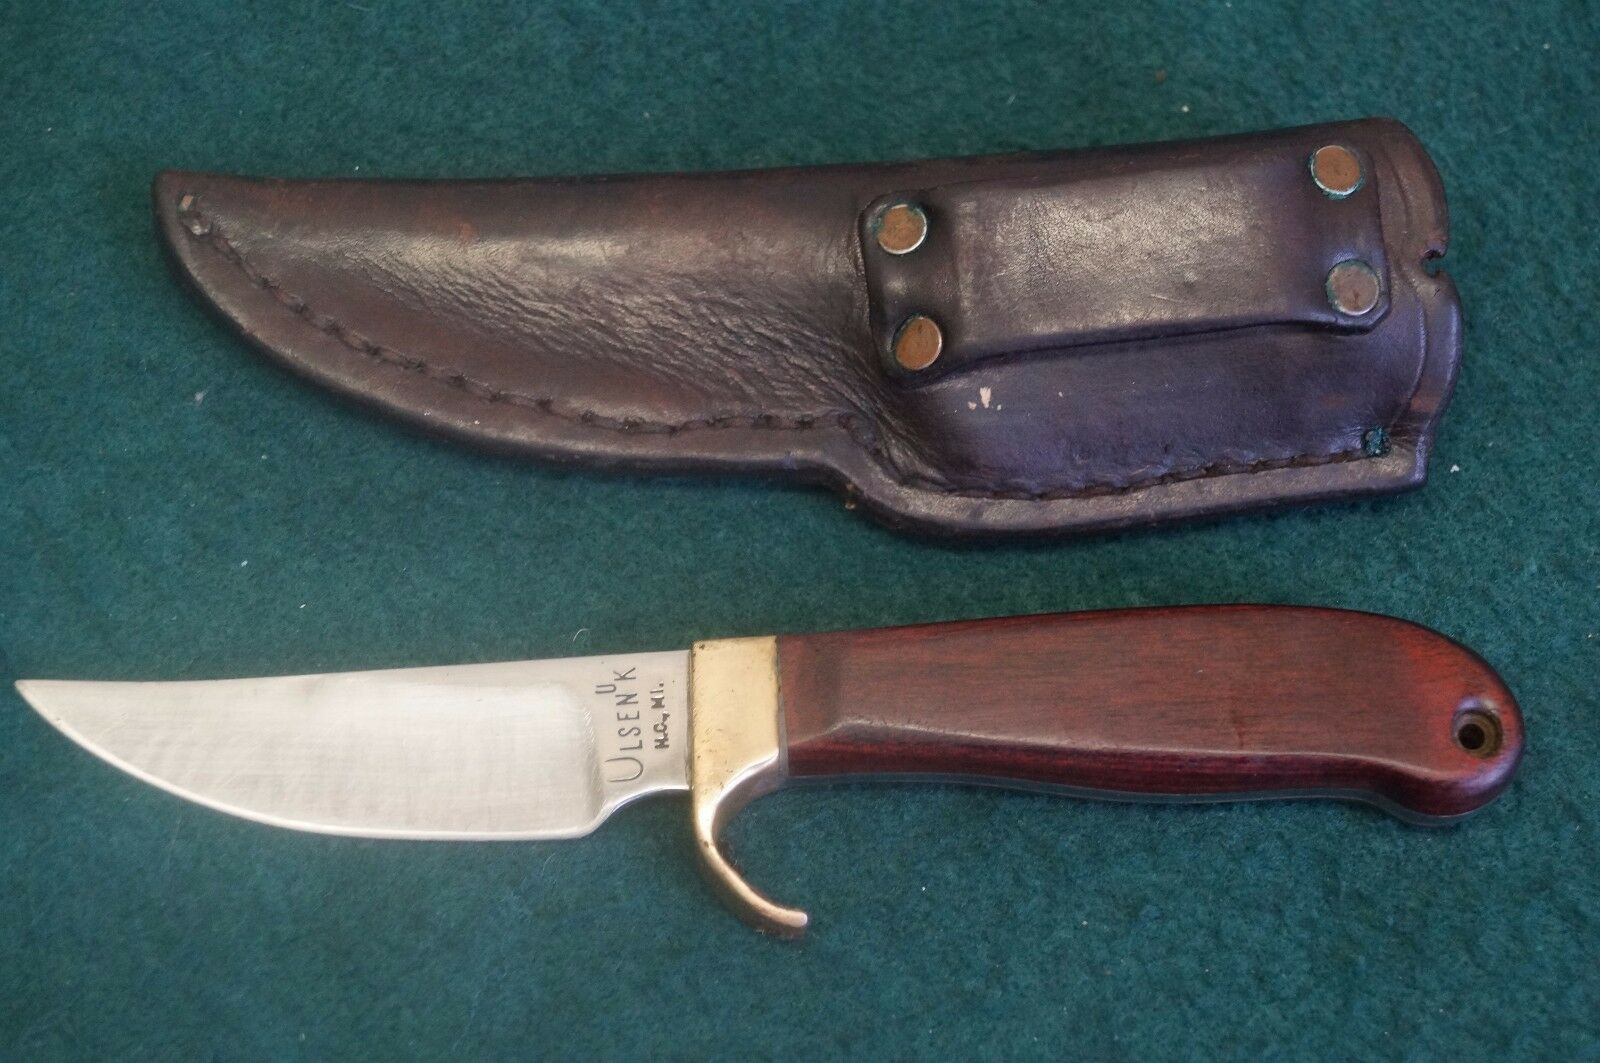knief: (23, 625, 1563, 886)
